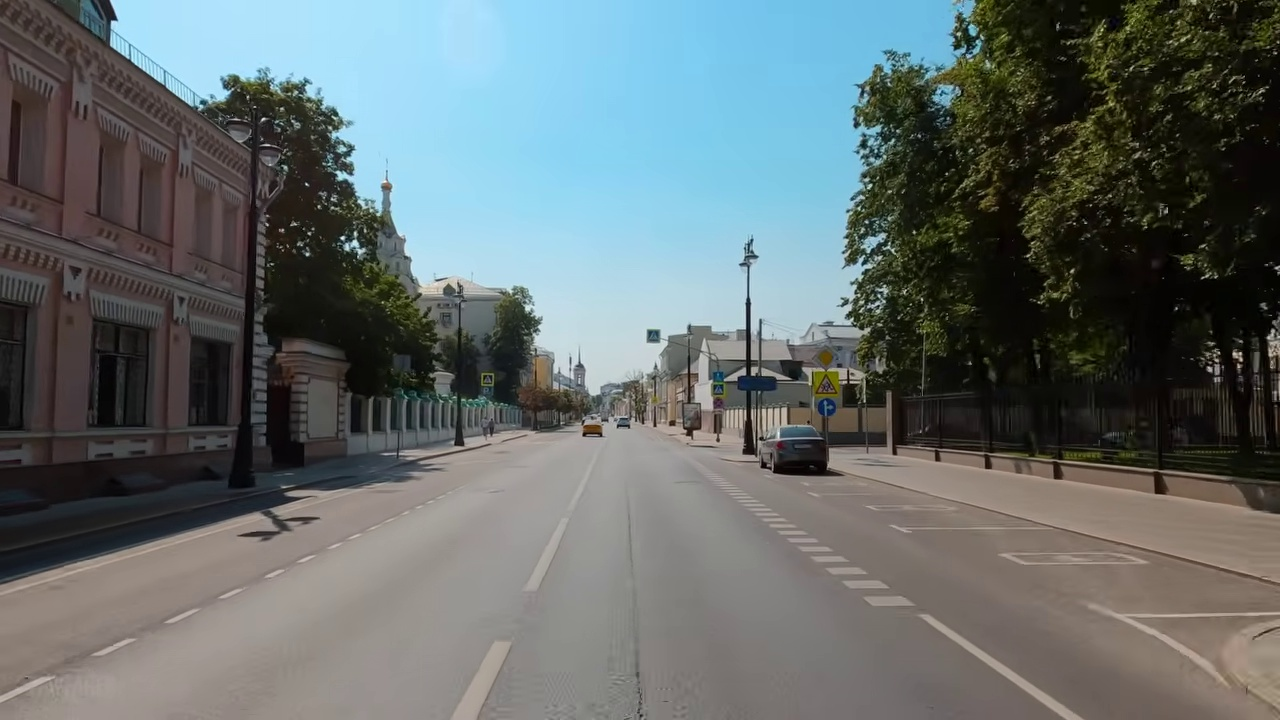apagada: (220, 110, 285, 172), (734, 244, 761, 275)
